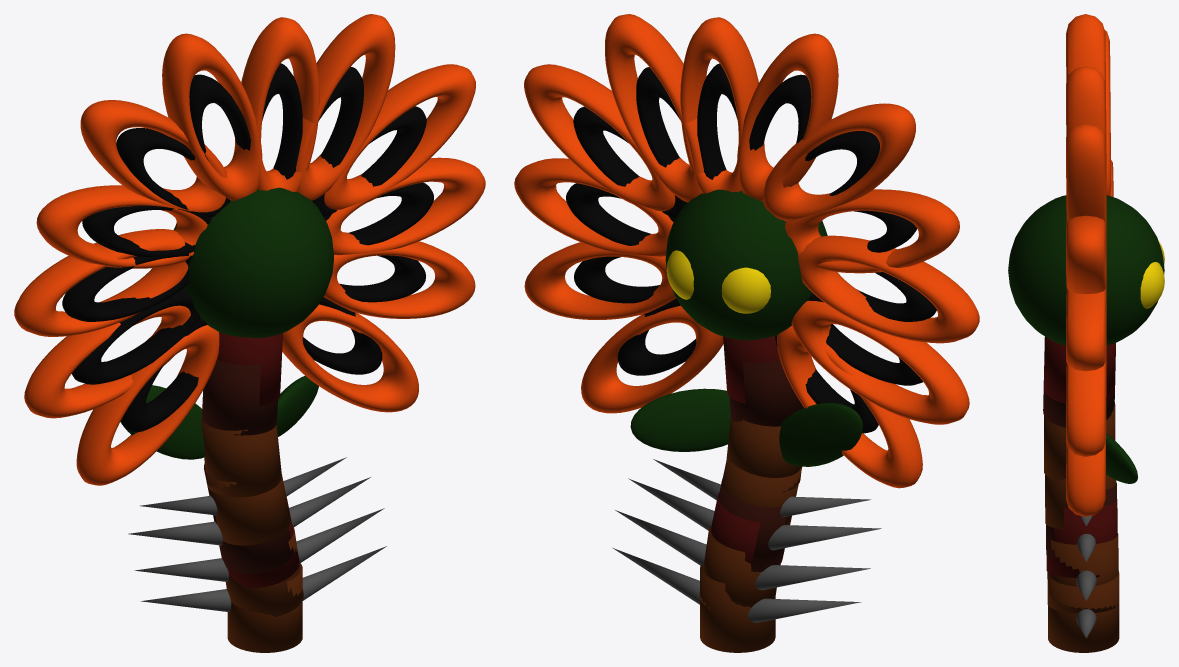
Rendered from grassenemy3.fbx.
The picture shows the model from 3 angles, left to right: view 1: azimuth 30°, elevation 25°; view 2: azimuth 150°, elevation 25°; view 3: azimuth 270°, elevation 25°; orthographic projection. The views are drawn at different scales.
Visible parts, largest first — view 1: Sphere, Torus.017, Torus.013, Torus.022, Torus.016, Torus.019, Torus.023, Torus.012, Torus.021, Torus.020, Torus.018, Torus.015 (+30 smaller); view 2: Sphere, Torus.019, Torus.018, Torus.013, Torus.016, Torus.021, Torus.022, Torus.017, Torus.012, Torus.023, Torus.020, Torus.015 (+33 smaller); view 3: Sphere, Cylinder, Torus.013, Torus.014, Torus.015, Torus.016, Cylinder.001, Torus.012, Torus.023, Cylinder.002, Torus.022, Cylinder.007 (+10 smaller).
Part boxes in pixels (x1,y1,x2,y2): Sphere: (174,187,333,337); Torus.017: (76,325,219,485); Torus.013: (296,14,395,200); Torus.022: (162,33,262,200); Torus.016: (324,64,475,209); Torus.019: (14,229,188,336); Torus.023: (241,17,319,191); Torus.012: (282,304,418,412); Torus.021: (80,100,227,212); Torus.020: (36,185,207,268); Torus.018: (24,305,190,418); Torus.015: (326,157,485,255); Sphere: (665,189,827,340); Torus.019: (798,235,979,343); Torus.018: (791,300,969,424); Torus.013: (605,14,703,202); Torus.016: (524,64,675,211); Torus.021: (763,103,915,221); Torus.022: (737,33,838,201); Torus.017: (777,326,922,488); Torus.012: (581,305,723,413); Torus.023: (680,17,758,193); Torus.020: (785,189,959,273); Torus.015: (514,158,673,256); Sphere: (1008,195,1164,345); Cylinder: (1048,571,1119,652); Torus.013: (1066,124,1106,232); Torus.014: (1066,331,1106,456); Torus.015: (1066,285,1106,371); Torus.016: (1066,215,1106,294); Cylinder.001: (1047,533,1118,613); Torus.012: (1066,371,1106,516); Torus.023: (1066,66,1106,212); Cylinder.002: (1046,499,1117,577); Torus.022: (1066,14,1106,173); Cylinder.007: (1043,336,1115,403).
Size of the model in its own units: 823 by 1054 by 255.
